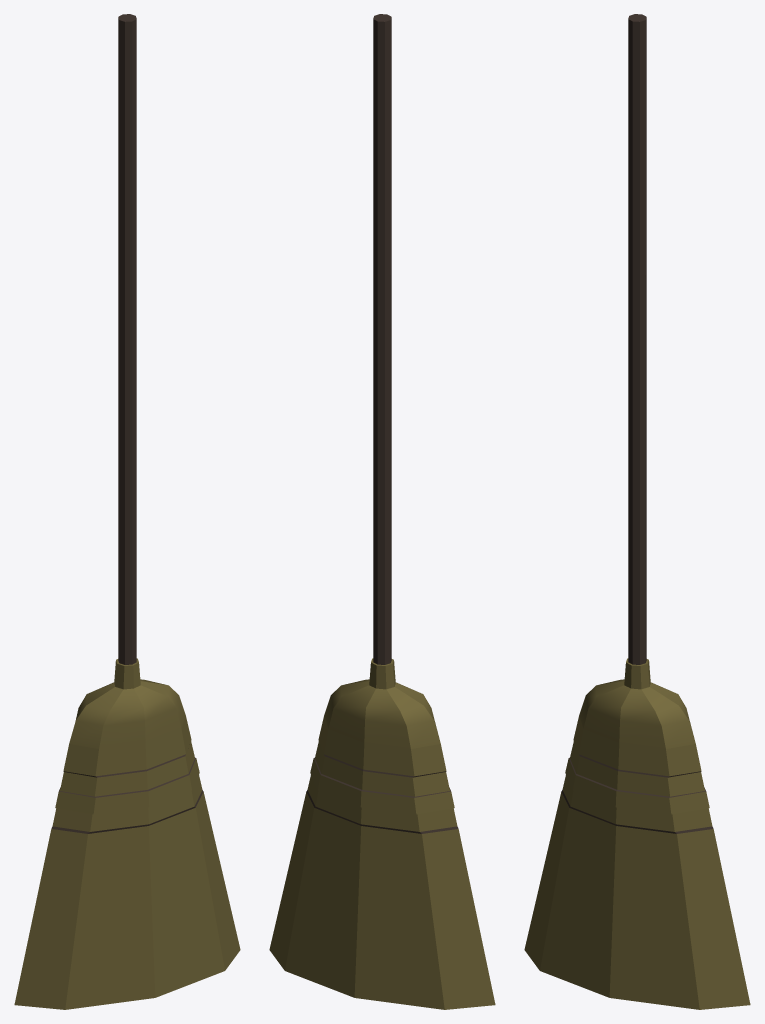
The model's file is broom 1.fbx.
The picture shows the model from 3 angles, left to right: view 1: azimuth 30°, elevation 25°; view 2: azimuth 150°, elevation 25°; view 3: azimuth 330°, elevation 25°; orthographic projection.
Visible parts, largest first — view 1: broom; view 2: broom; view 3: broom.
Boxes of the visible parts, left/top/right/bottom form: broom: left=14, top=14, right=240, bottom=1009; broom: left=269, top=14, right=495, bottom=1009; broom: left=524, top=14, right=750, bottom=1009.
Size of the model in its own units: 34.3 by 139 by 14.65.
